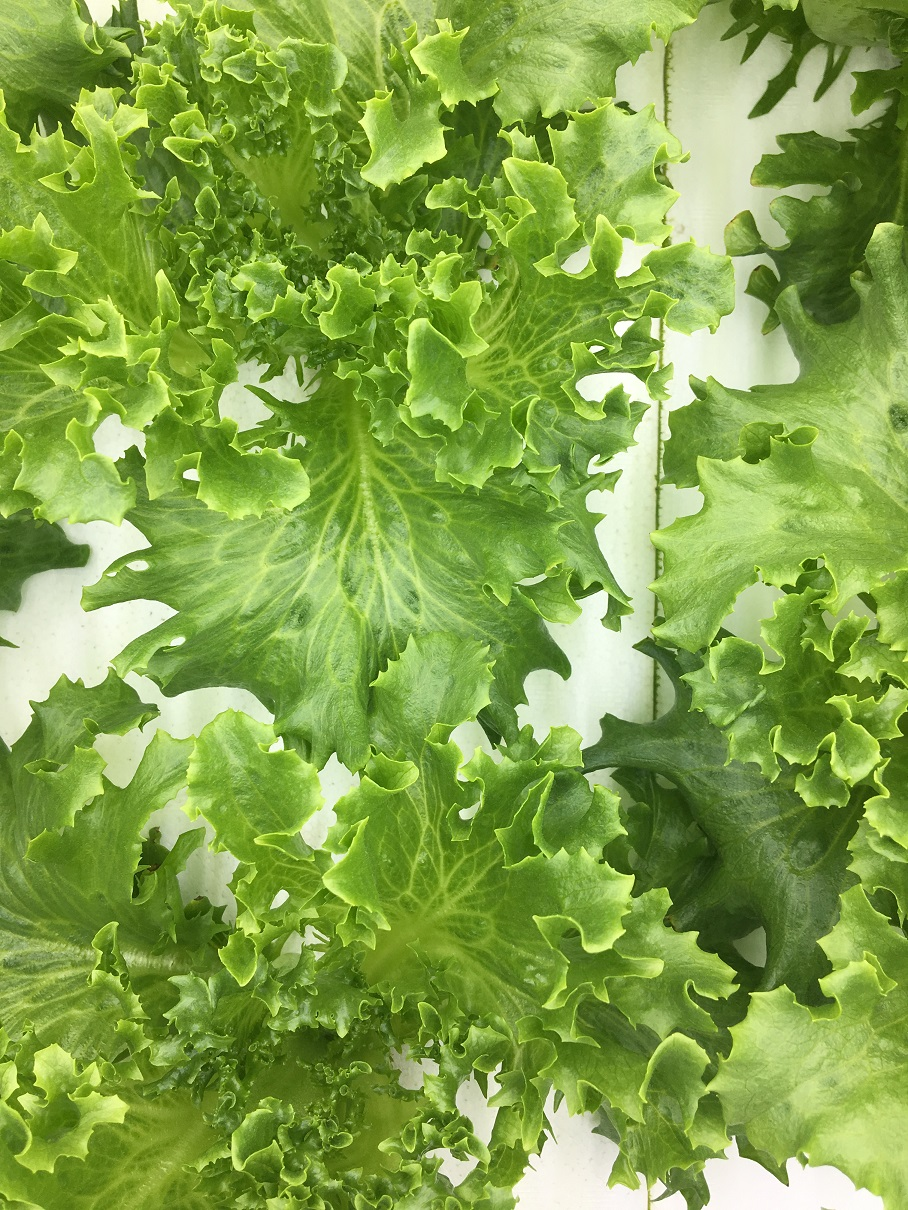tipburn: (747, 261, 767, 282), (777, 1175, 800, 1193), (722, 209, 740, 231)
